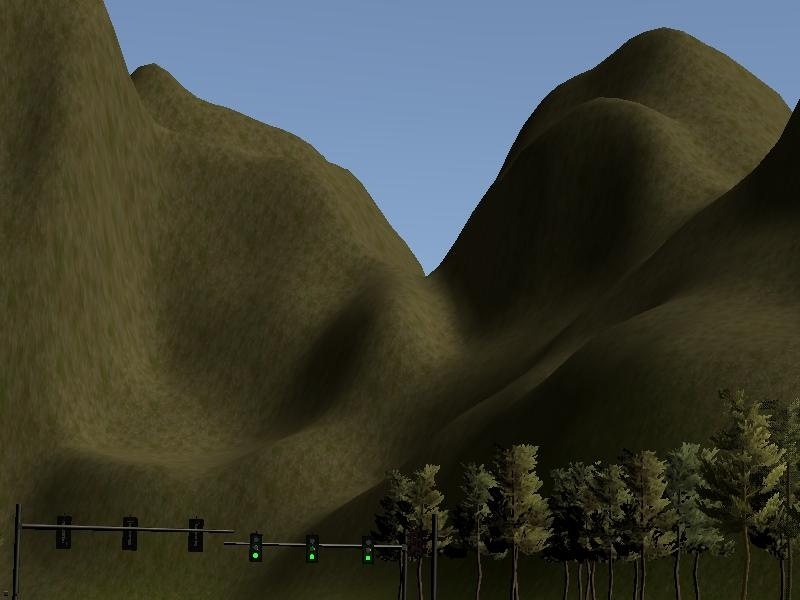green: (243, 531, 269, 565), (303, 531, 321, 565), (360, 535, 374, 568)
